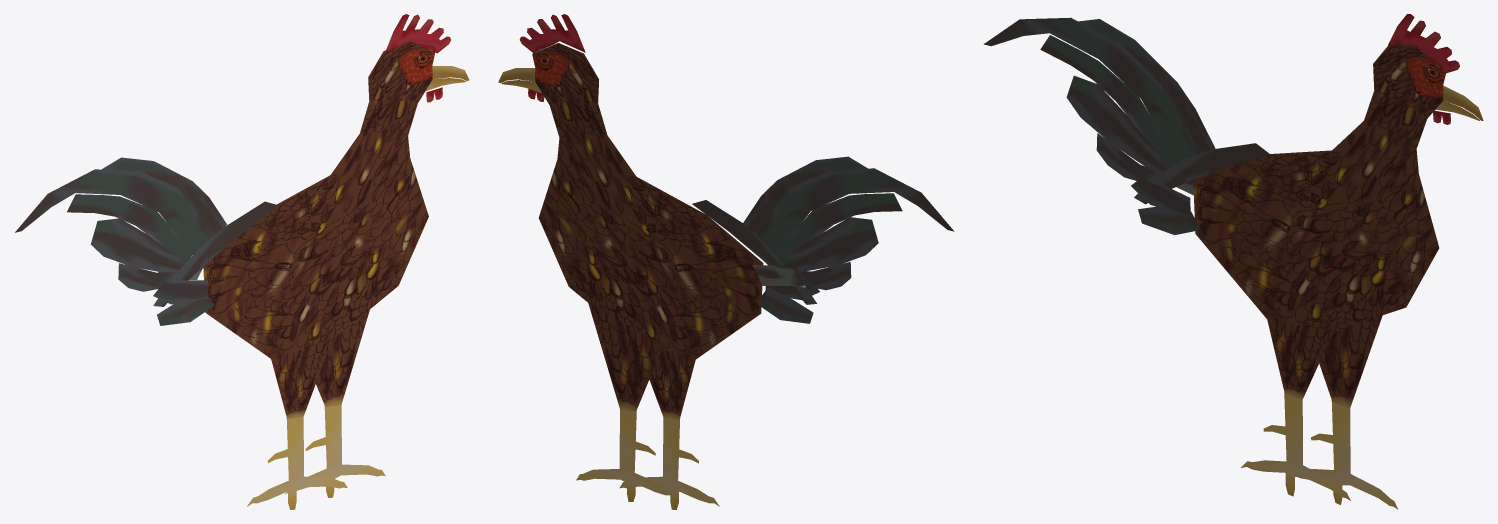
The model's file is rooster_1.0.1.fbx.
3 views of the same model, side by side, from view 1: azimuth 30°, elevation 25°; view 2: azimuth 150°, elevation 25°; view 3: azimuth 330°, elevation 25° (orthographic). The views are drawn at different scales.
Visible parts, largest first — view 1: Cube; view 2: Cube; view 3: Cube.
Boxes of the visible parts, <box> form: Cube: <box>15,14,469,509</box>; Cube: <box>498,14,954,509</box>; Cube: <box>983,14,1483,509</box>.
Size of the model in its own units: 580 by 570 by 15.13.
Materials: 1 (1 with a texture image).
